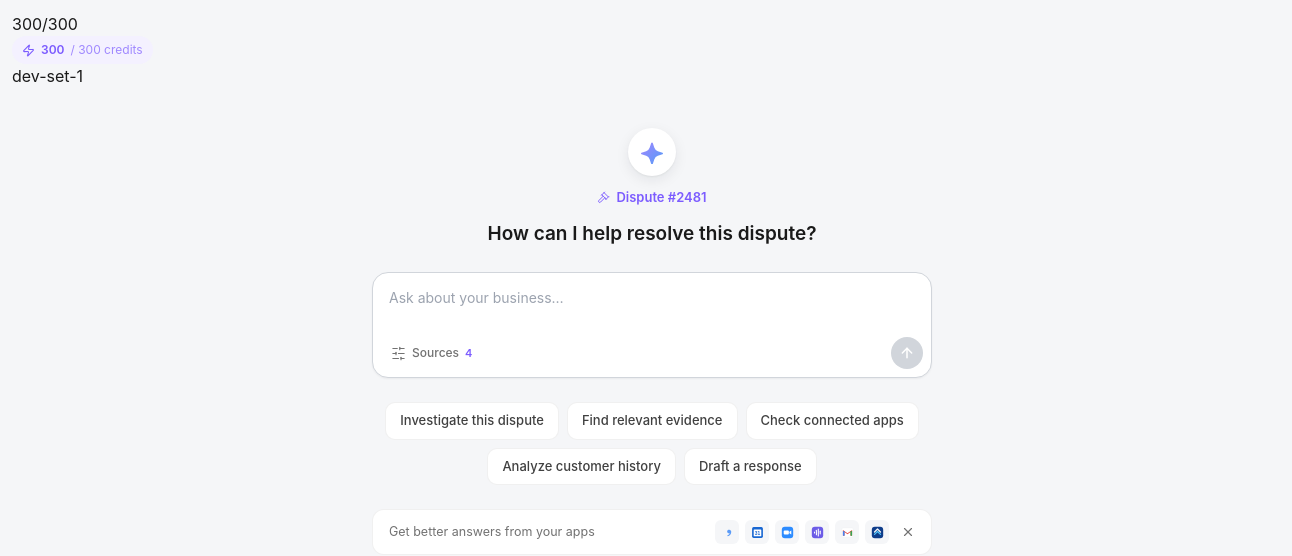
Test: chat credit system › G. investigation credit usage — the demo-configurable tiered model (src/lib/mockData.ts's CREDIT_COSTS) › a plain single-source dispute answer costs the standard tier (1 credit)
Expected: the text with test id "credits-readout" reads "300/300", [12, 14, 78, 34]
Click the button "Investigate this dispute".
click(472, 421)  # box [385, 402, 559, 440]
Wait 3000 ms
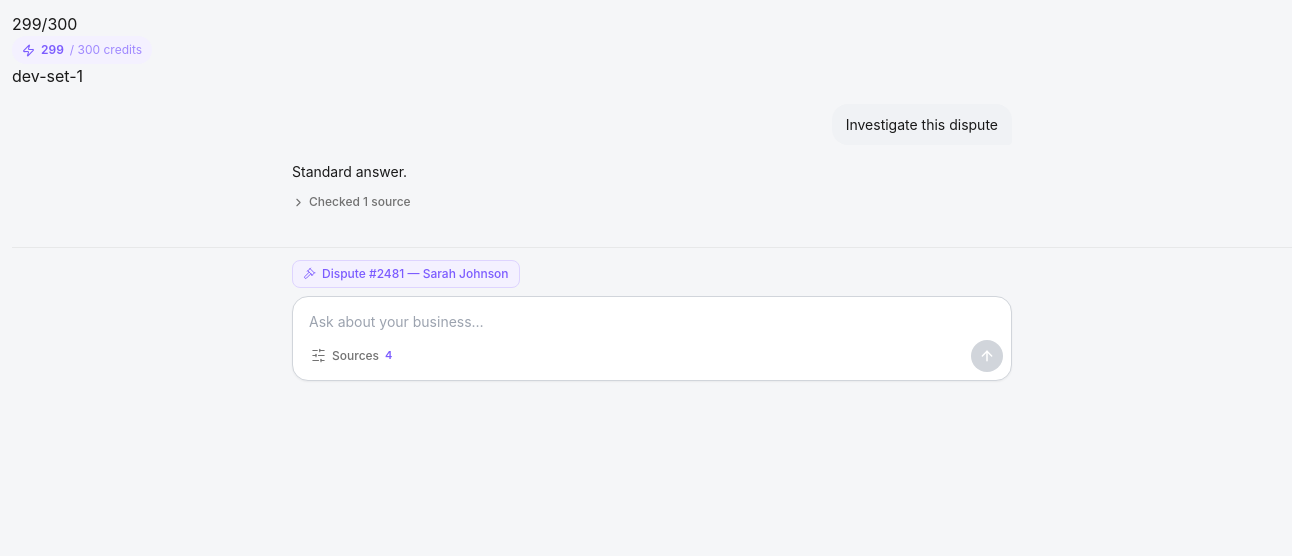
Expected: the text "Standard answer." is shown, [292, 163, 407, 180]
Expected: the text with test id "credits-readout" reads "299/300", [12, 14, 78, 34]
